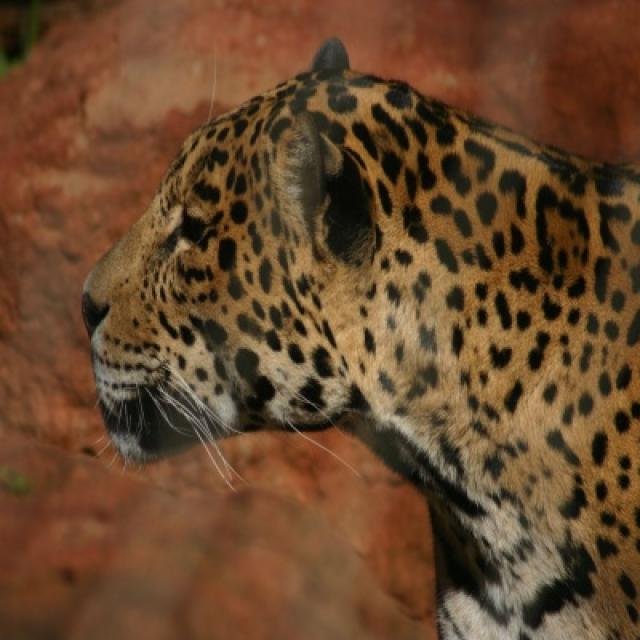Jaguar: (78, 38, 638, 638)
